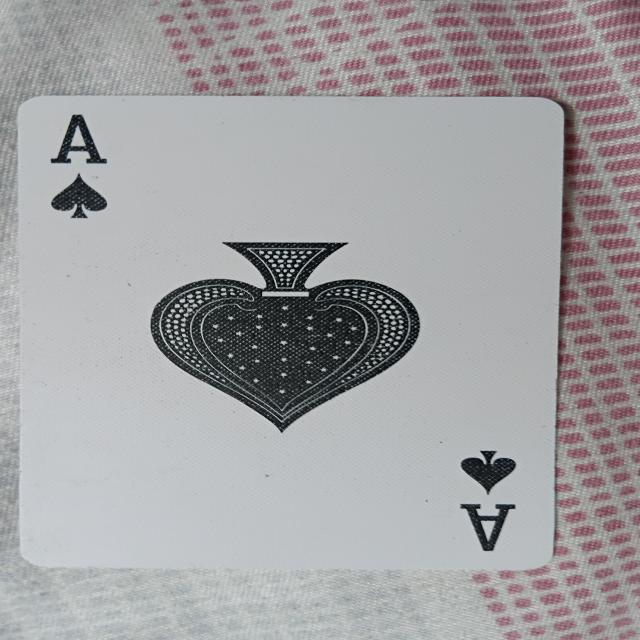AS: (12, 90, 571, 572)
